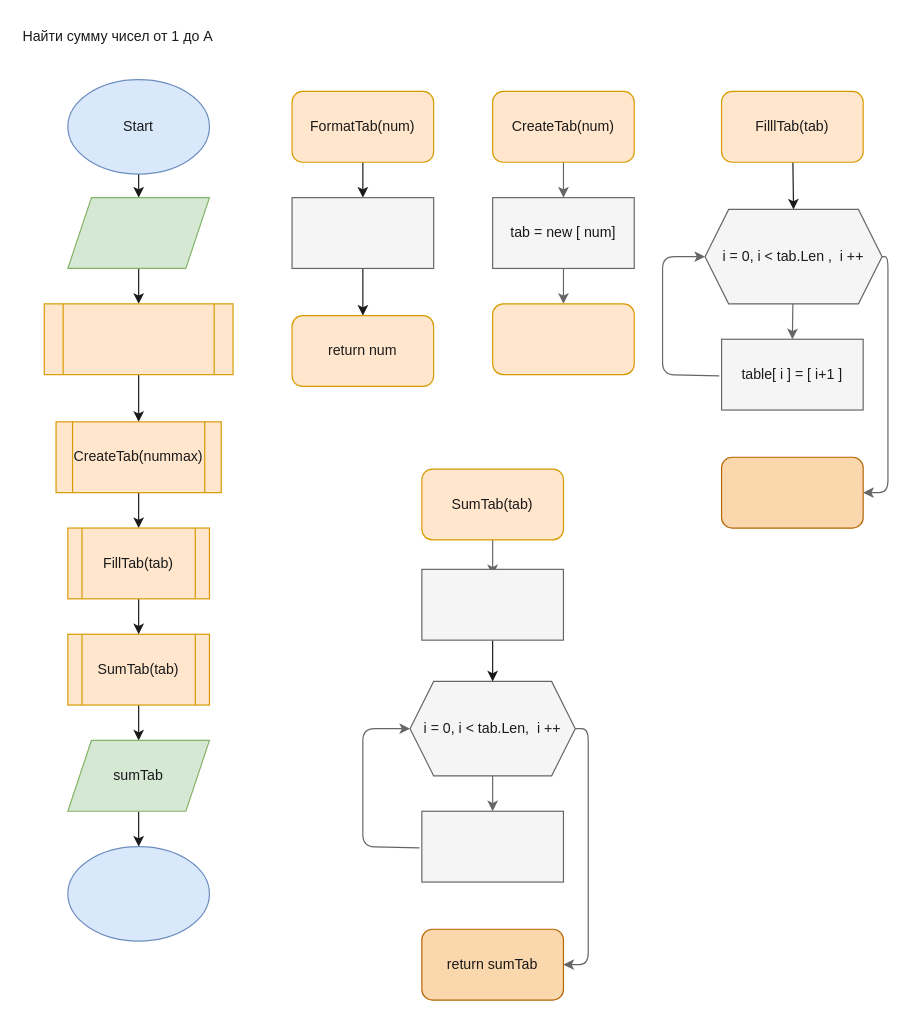
This 918x1021 diagram has some shape labels left out. The shapes that lost their labels are listed below. From the top down, each one's box as (x1, y1, x2, y2) in pixels, then its label:
(67, 196, 209, 268): nummin = 1 nummax = A
(291, 196, 434, 268): convert num to int
(43, 303, 233, 375): FormatTab(nummax)
(491, 303, 634, 375): return (tab)
(720, 456, 863, 528): return tab
(421, 568, 563, 640): sumTab = 0
(421, 810, 563, 882): sumTab = sumTab + table[ i ]
(67, 845, 209, 941): End
